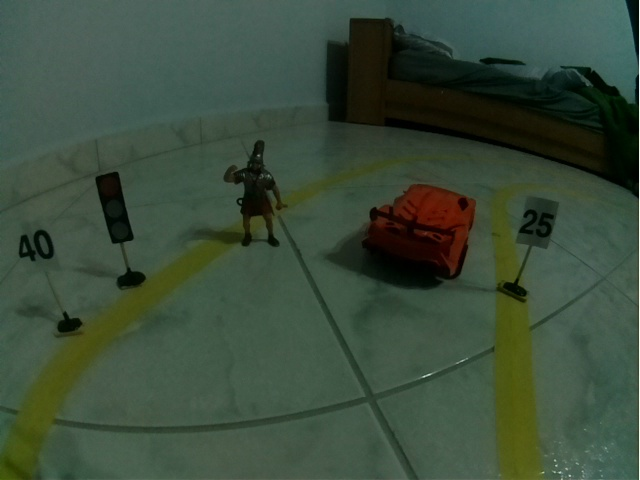Lambo: (360, 182, 477, 281)
Person: (222, 139, 289, 248)
Red Traffic Light: (93, 171, 134, 245)
Speed Limit 25: (515, 195, 560, 250)
Speed Limit 40: (9, 222, 61, 276)
